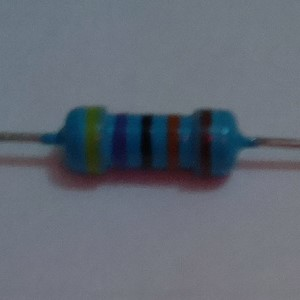black_band: (136, 113, 155, 172)
brown_band: (198, 107, 213, 179)
orange_band: (163, 113, 183, 174)
violet_band: (107, 111, 130, 169)
yellow_band: (83, 104, 103, 175)
